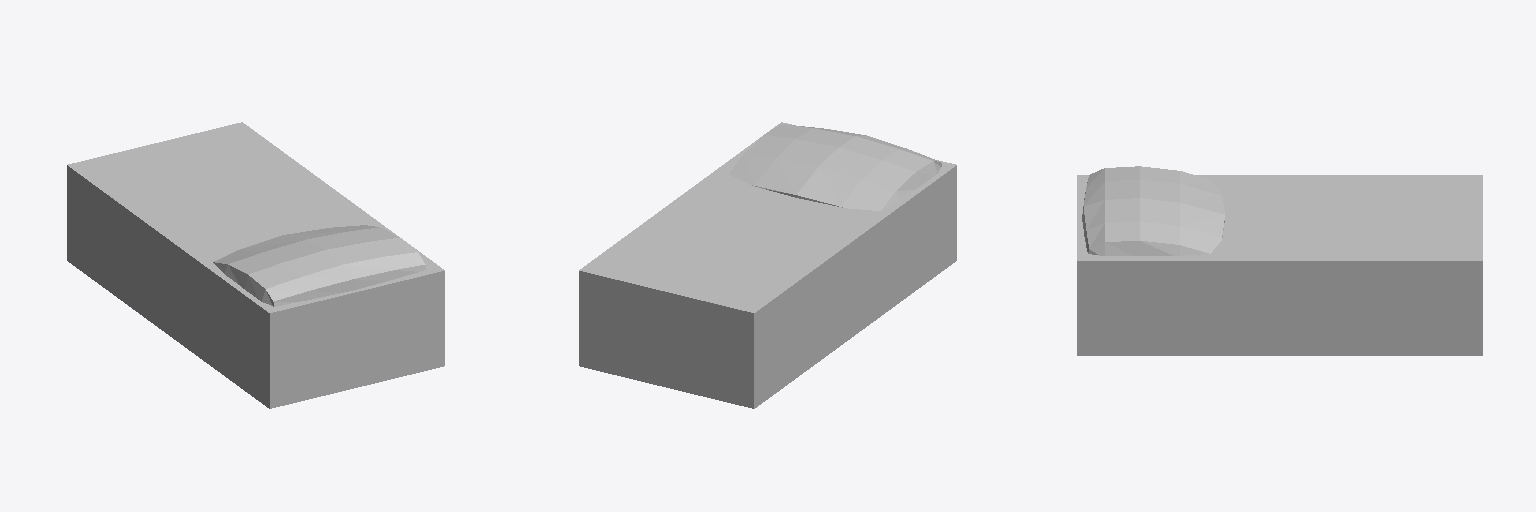
Rendered from bed.obj.
The picture shows the model from 3 angles: view 1: azimuth 30°, elevation 25°; view 2: azimuth 150°, elevation 25°; view 3: azimuth 270°, elevation 25°; orthographic projection.
Parts seen in each view (by area): view 1: Cube; view 2: Cube; view 3: Cube.
Part boxes in pixels (bbox=[...]): Cube: bbox=[67, 122, 444, 408]; Cube: bbox=[579, 122, 956, 408]; Cube: bbox=[1077, 166, 1482, 355].
Size of the model in its own units: 1 by 0.625 by 2.